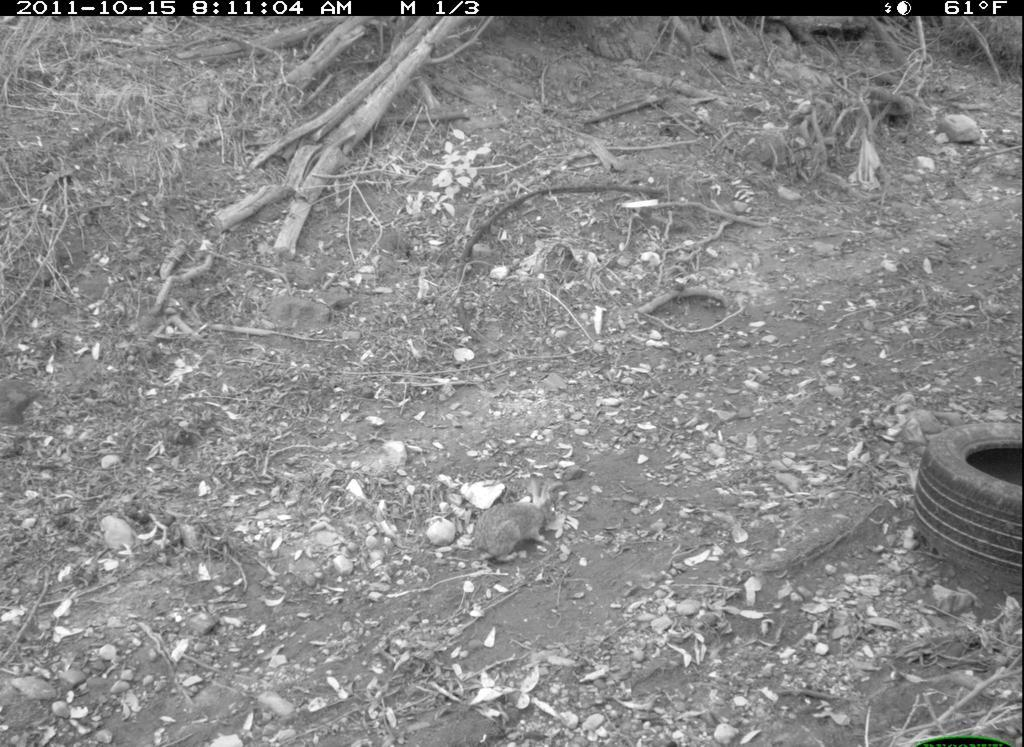rabbit: (465, 473, 561, 573)
